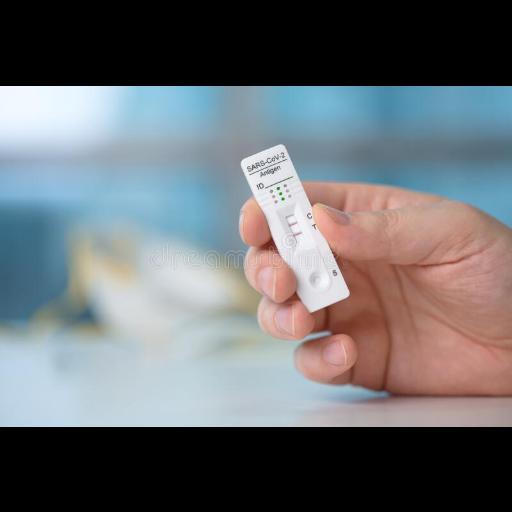Pos: (240, 144, 352, 313)
